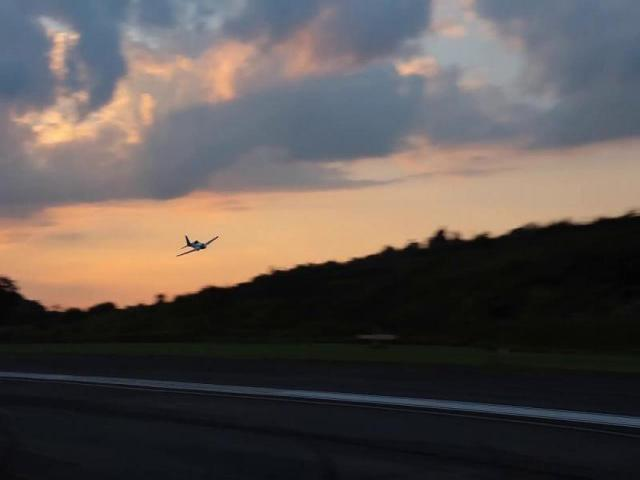hedef: (174, 223, 221, 264)
